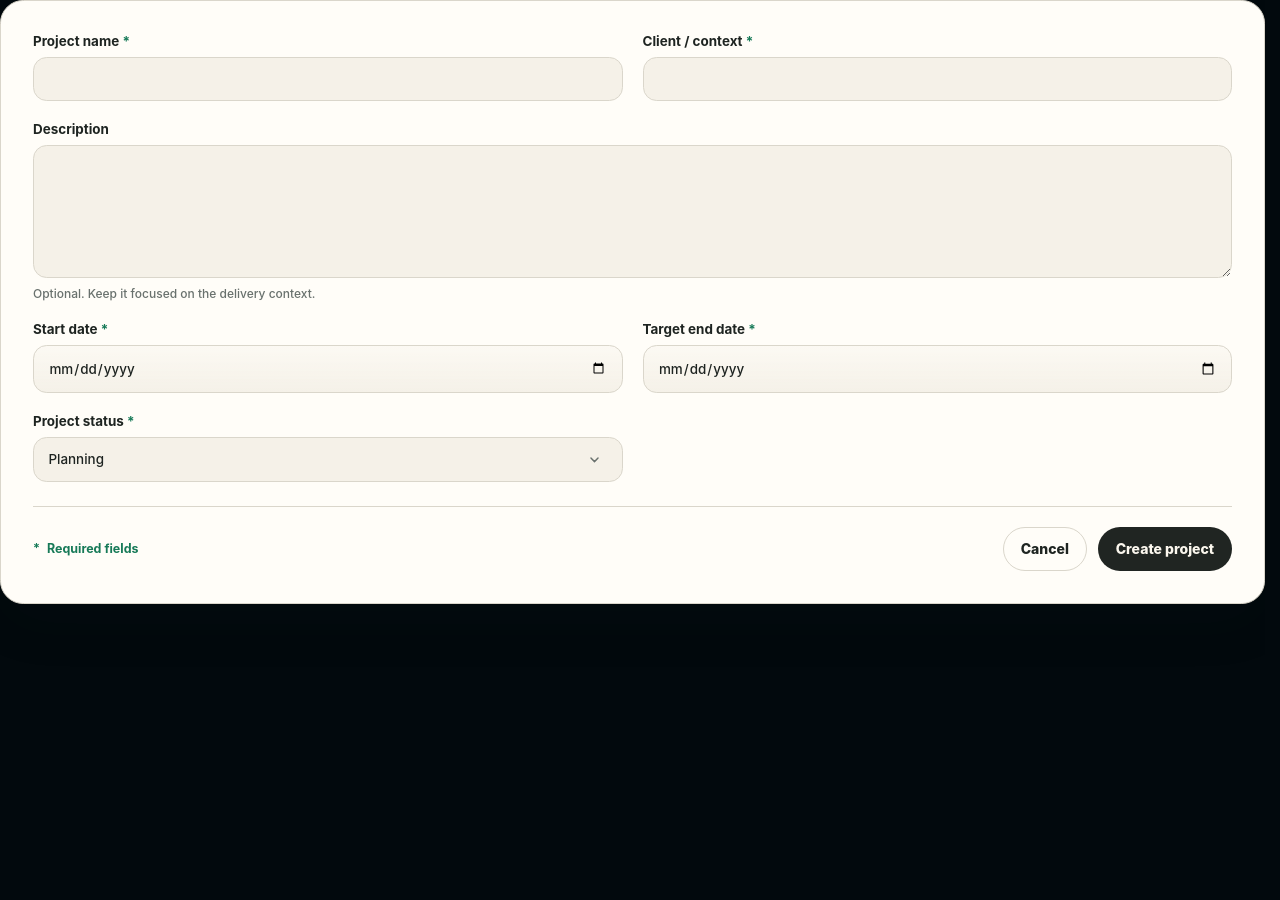
Test case: ProjectForm › blocks a target end date that is earlier than the project start date
Step 1. Type "Client Portal" into the field labelled "Project name *" → (328, 79), box x1=33 y1=57 x2=622 y2=101
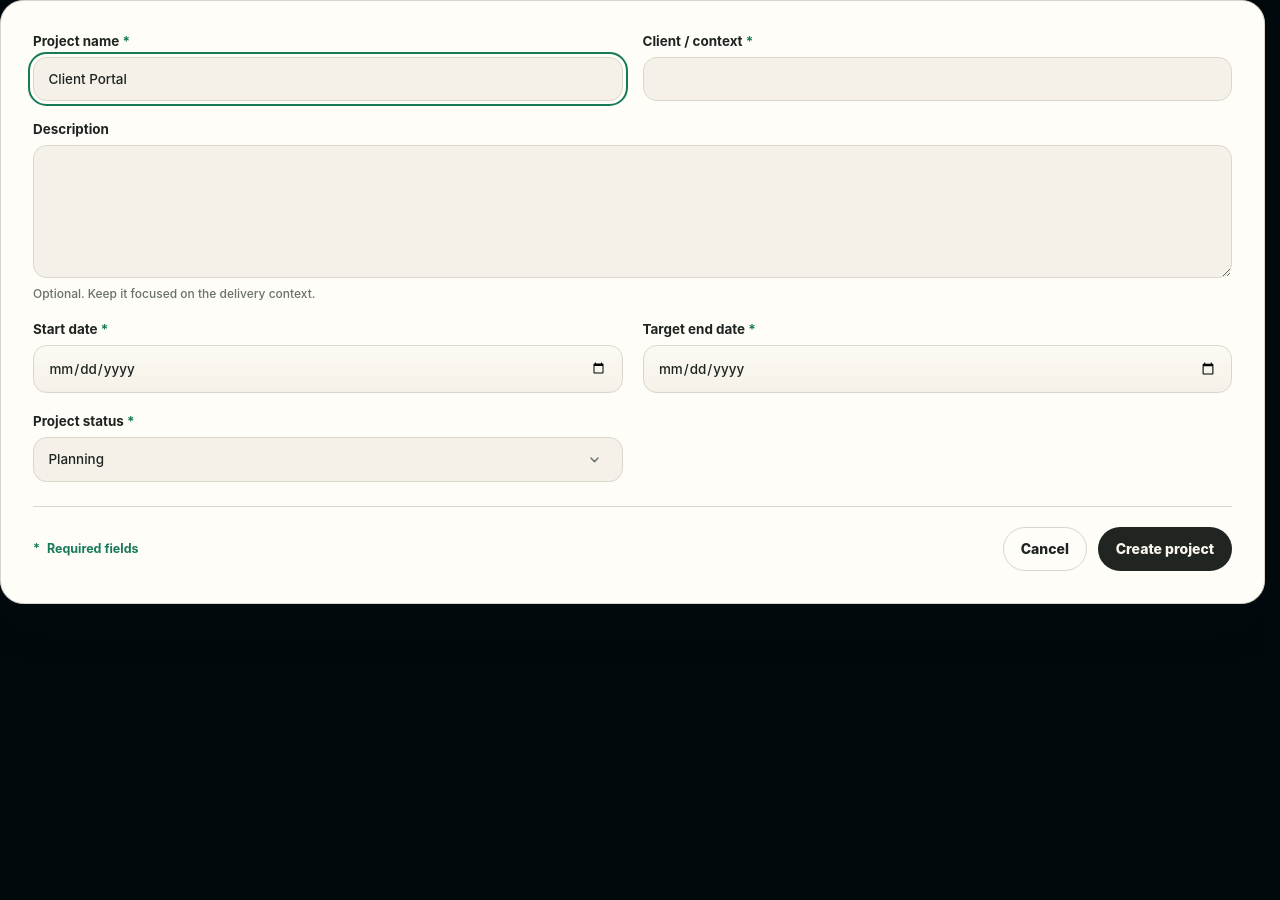
Step 2. Type "Acme Group" into the field labelled "Client / context *" → (937, 79), box x1=642 y1=57 x2=1232 y2=101
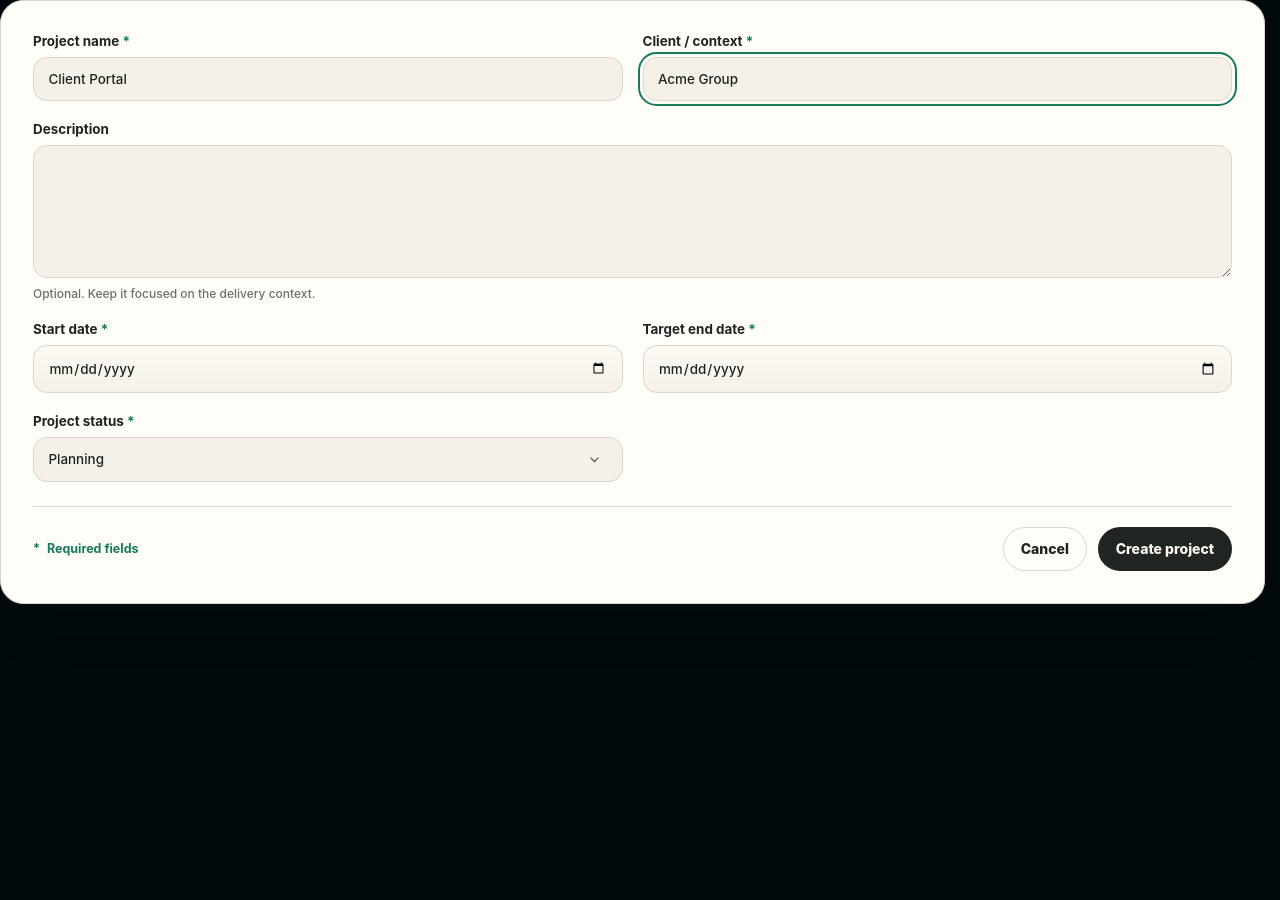
Step 3. Type "2026-10-10" into the date field labelled "Start date *" → (328, 369), box x1=33 y1=345 x2=622 y2=393
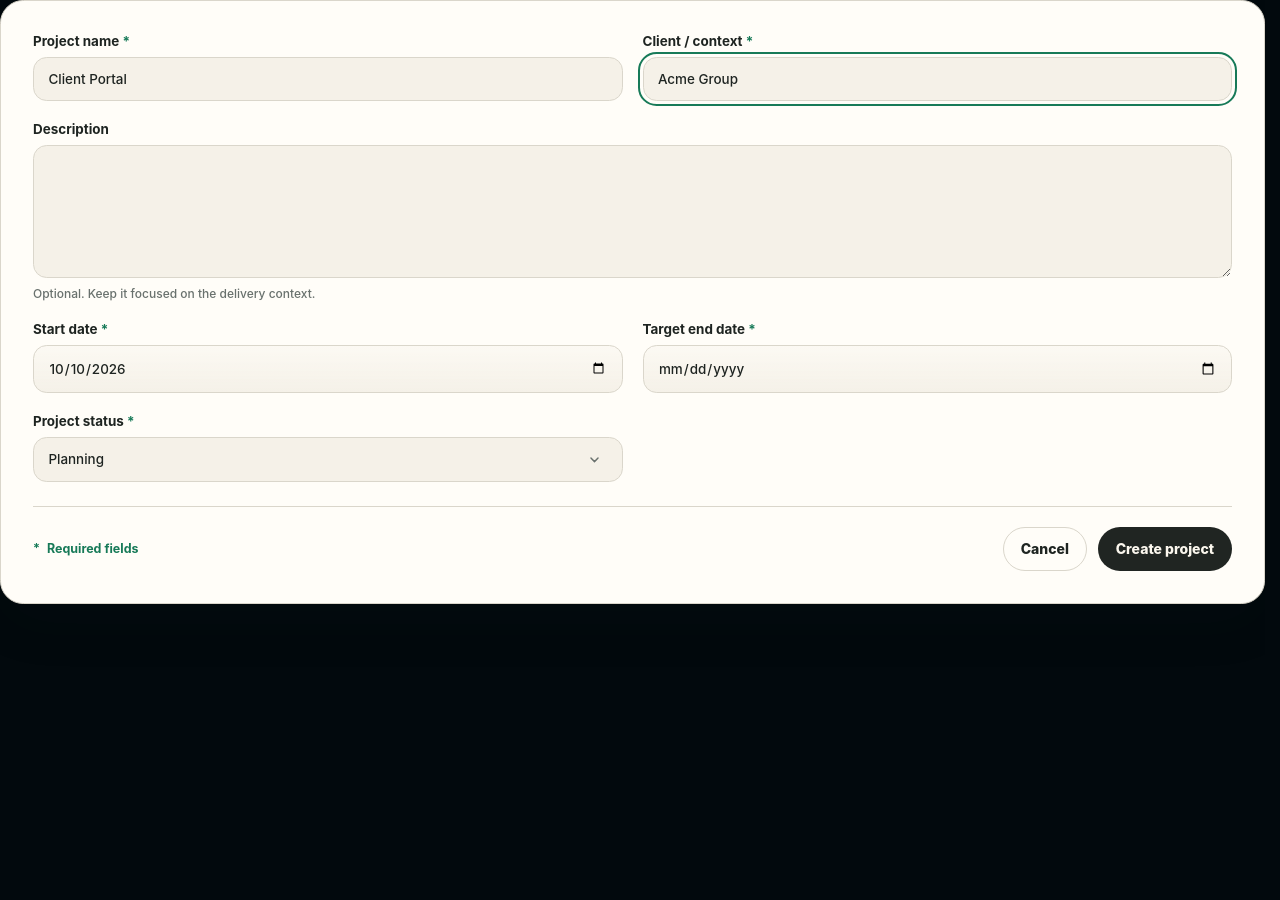
Step 4. Type "2026-10-01" into the date field labelled "Target end date *" → (937, 369), box x1=642 y1=345 x2=1232 y2=393
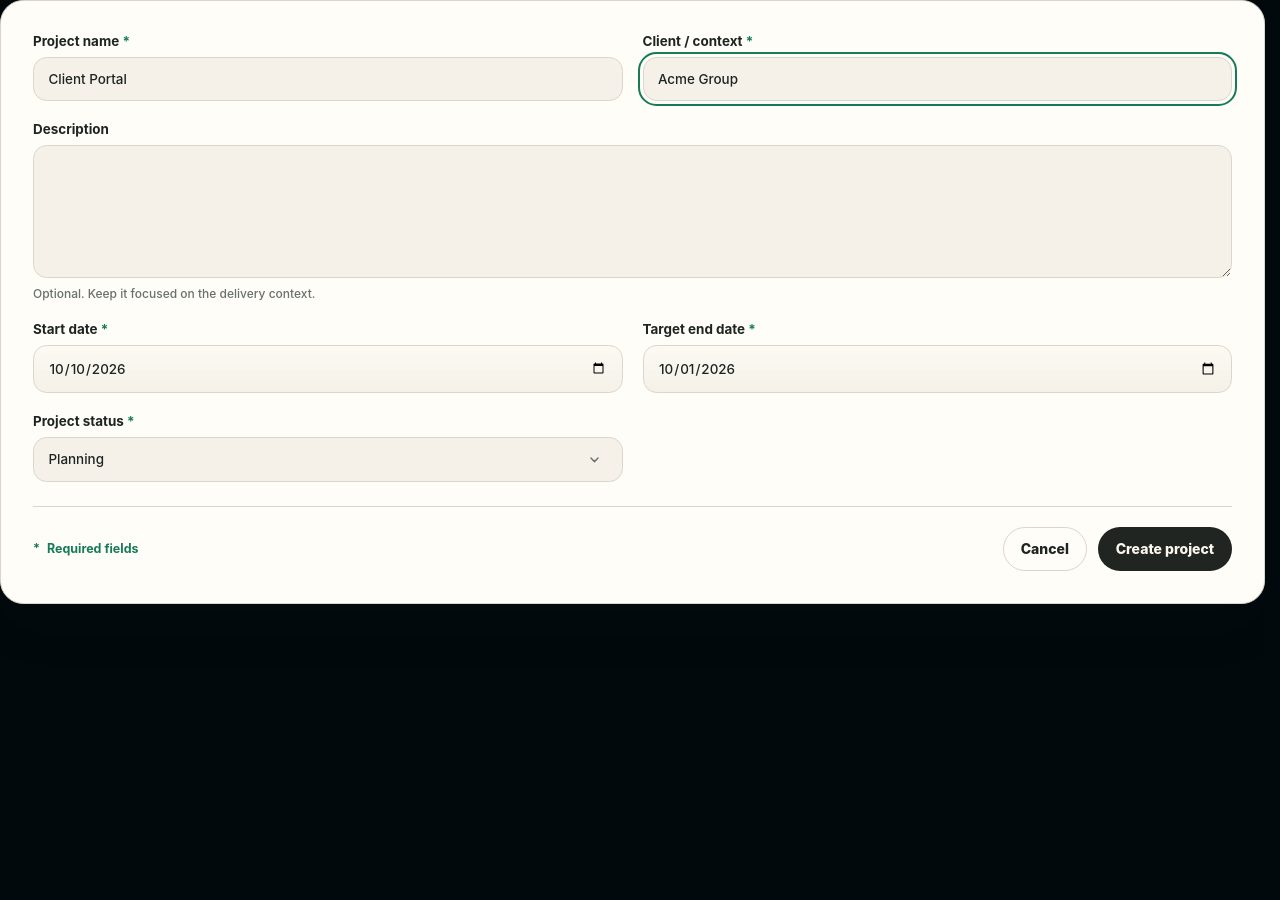
Step 5. Click the button "Create project" → (1165, 549), box x1=1098 y1=527 x2=1232 y2=571
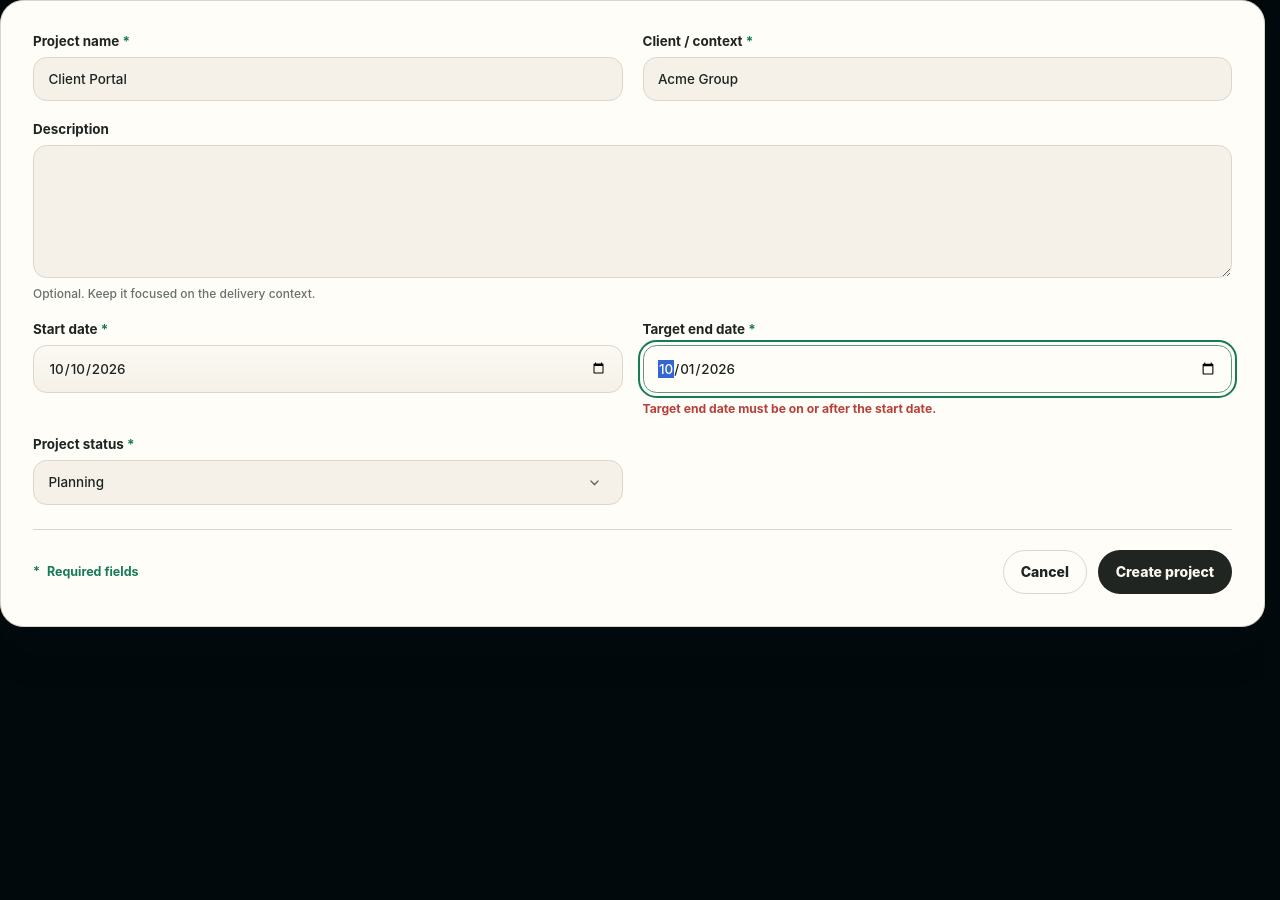
Expected: the text "Target end date must be on or after the start date." is shown, x1=642 y1=401 x2=936 y2=416
